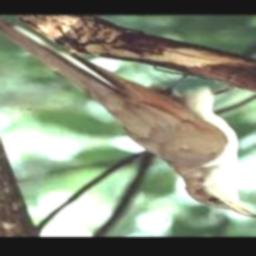Cuckoo: (0, 14, 256, 218)
